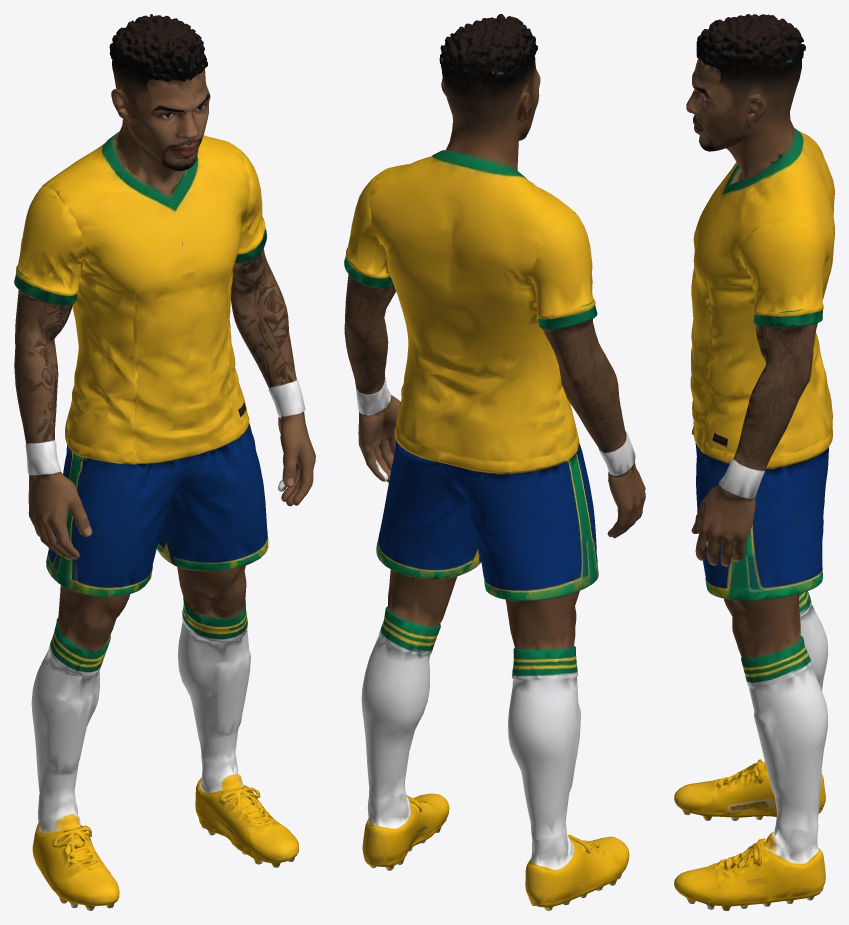
File: wizard.glb
The picture shows the model from 3 angles, left to right: view 1: azimuth 30°, elevation 25°; view 2: azimuth 150°, elevation 25°; view 3: azimuth 270°, elevation 25°; orthographic projection.
Parts seen in each view (by area): view 1: mesh_node; view 2: mesh_node; view 3: mesh_node.
Part boxes in pixels (x1,y1,x2,y2): mesh_node: (14,14,315,910); mesh_node: (344,14,645,910); mesh_node: (674,14,834,910).
Size of the model in its own units: 0.6504 by 1.9 by 0.3303.
Materials: 1 (1 with a texture image).
